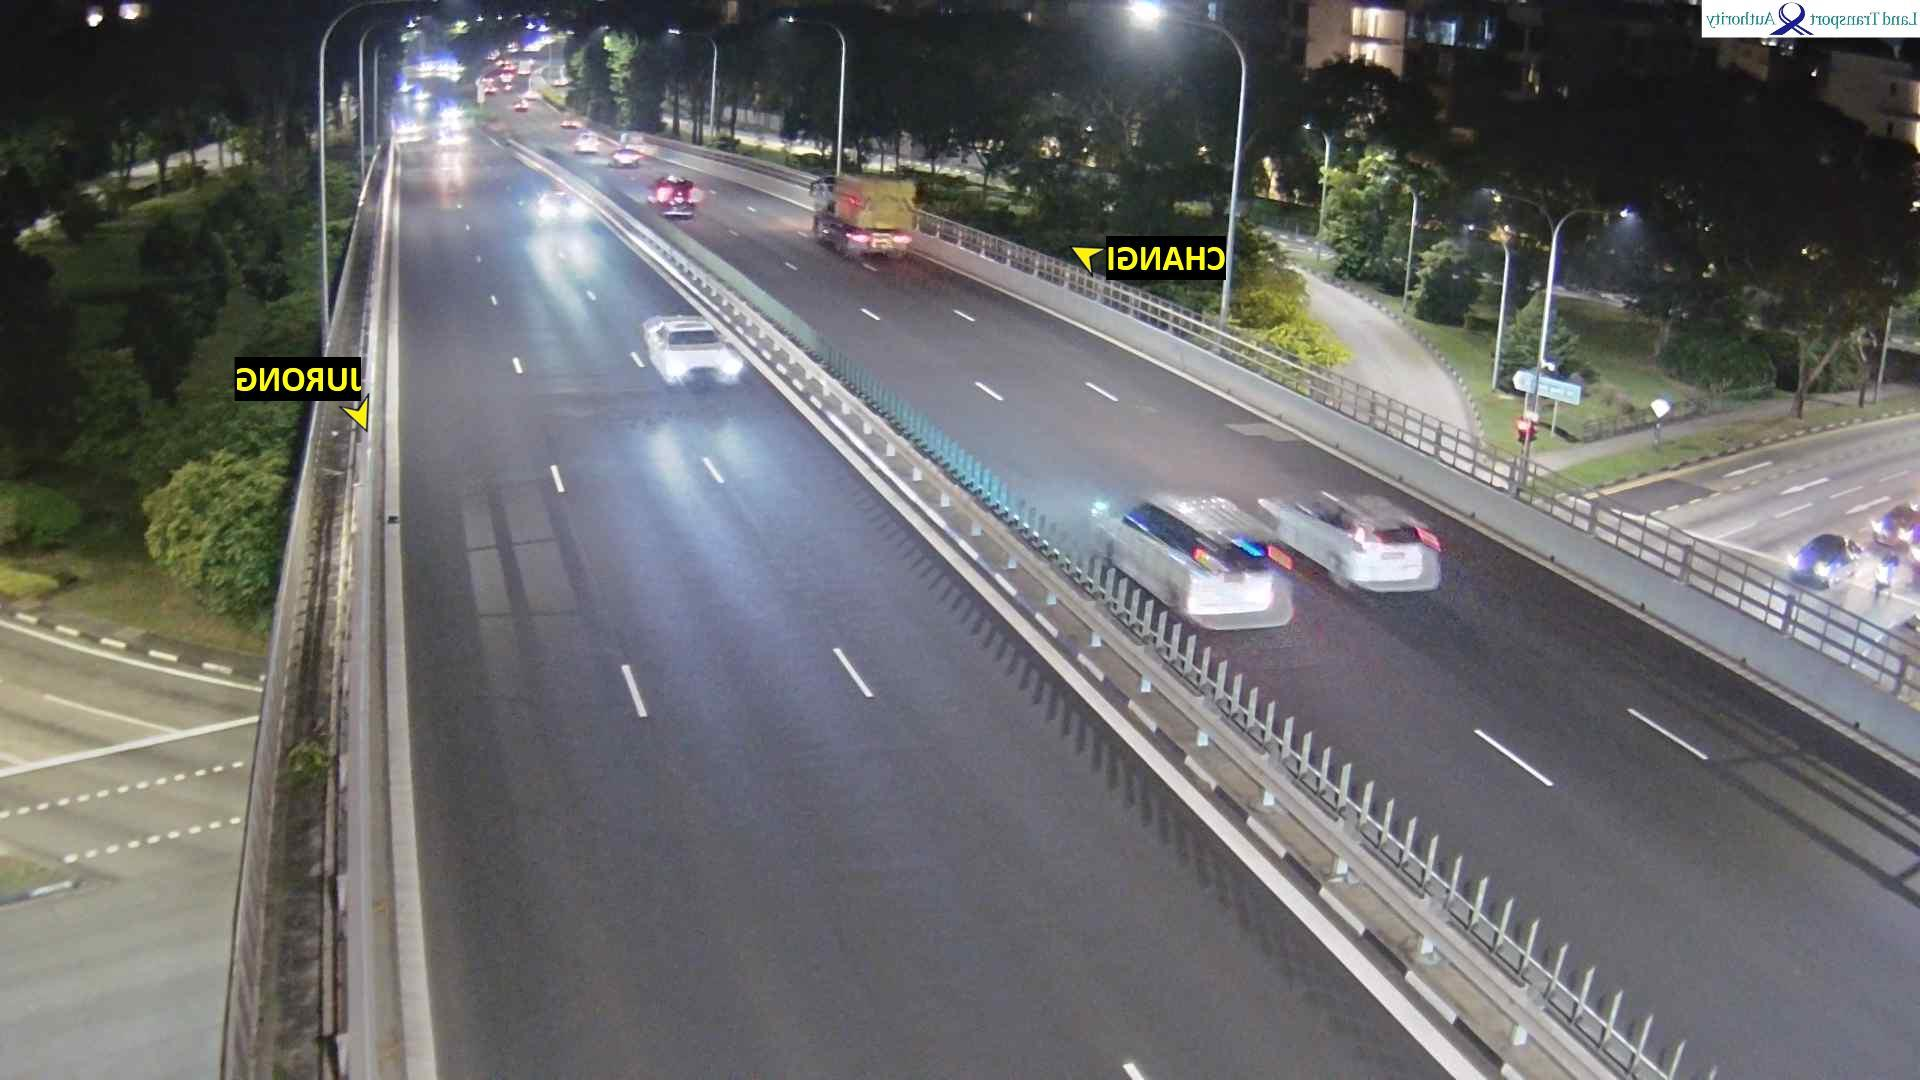incoming: (652, 321, 745, 392), (536, 190, 588, 231)
